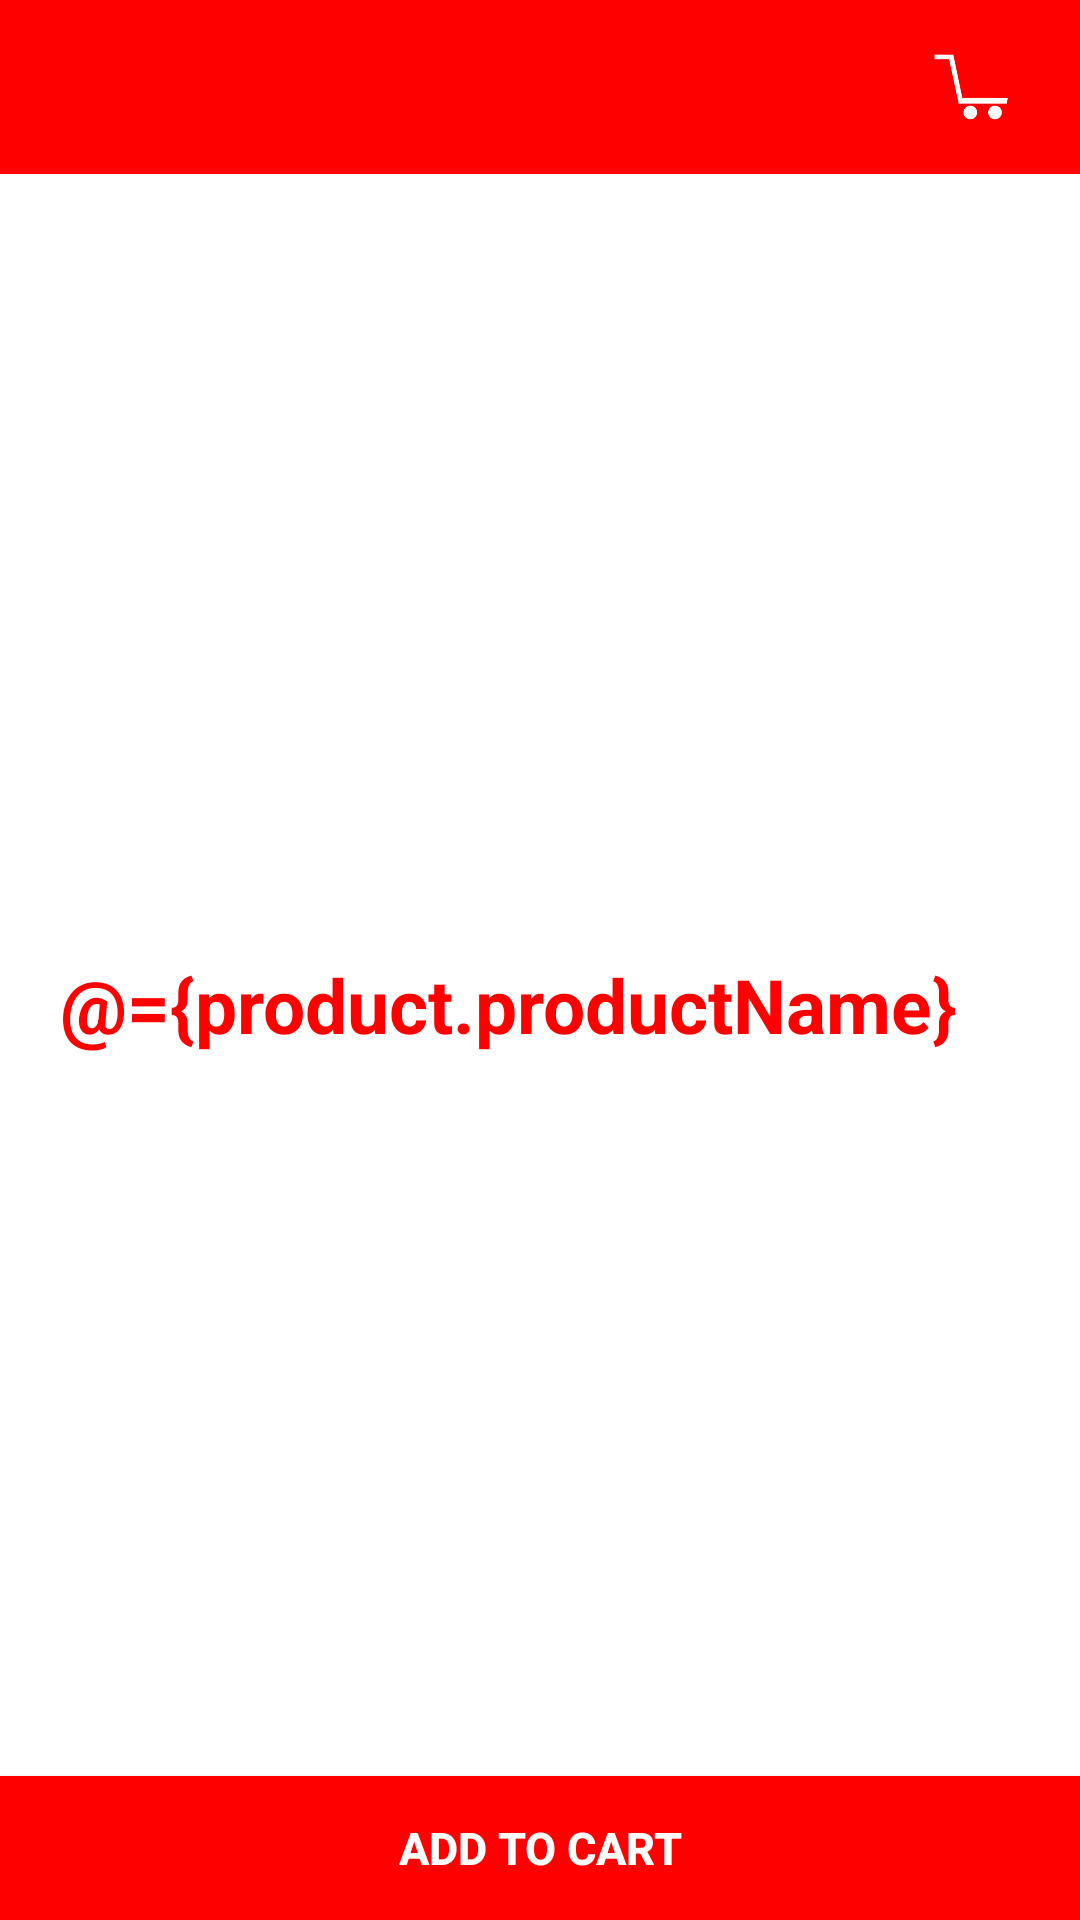

Icons on this 1080×1920 Android screen, each with the point to tap as point (x, y):
Cart: point (971, 87)
